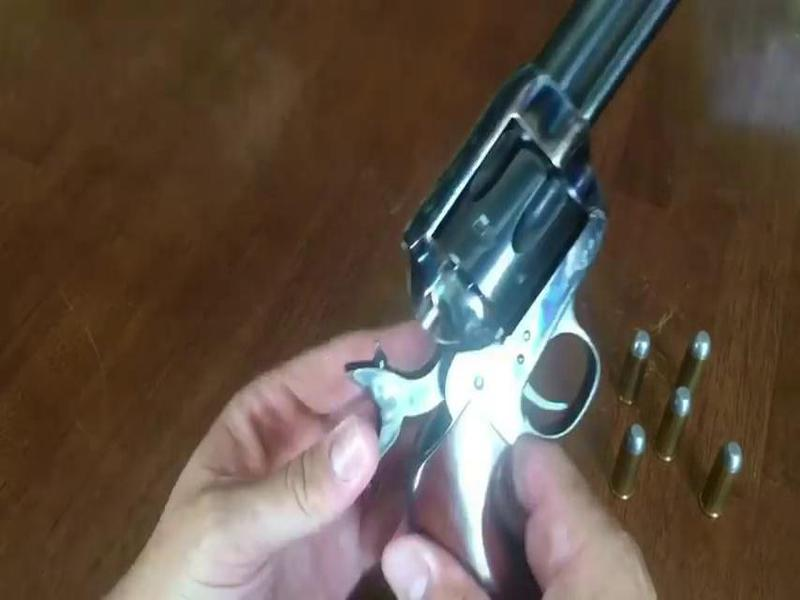Revolver: (375, 7, 673, 548)
